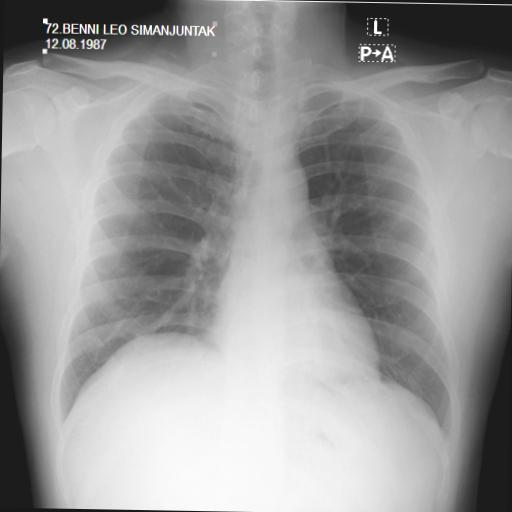normal: (46, 49, 466, 446)
